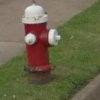Hydrant: (16, 0, 73, 83)
